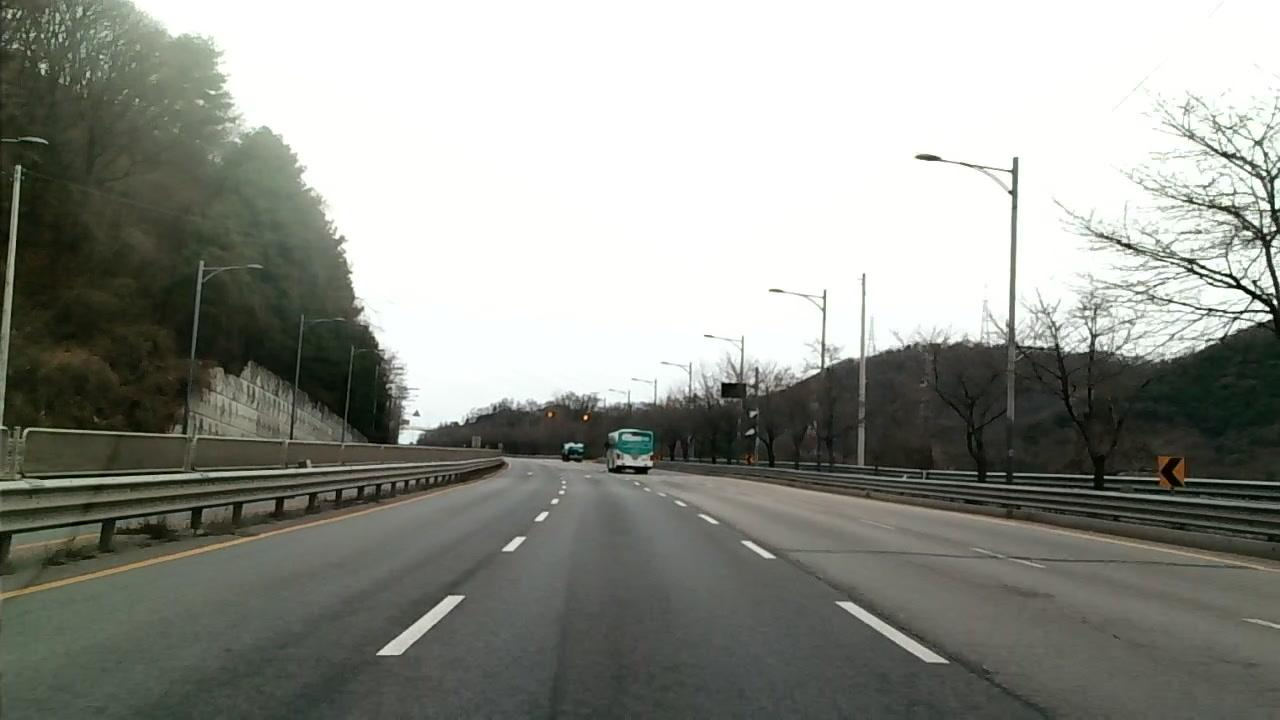hcrack: (766, 544, 1272, 569)
vcrack: (771, 547, 1071, 720)
